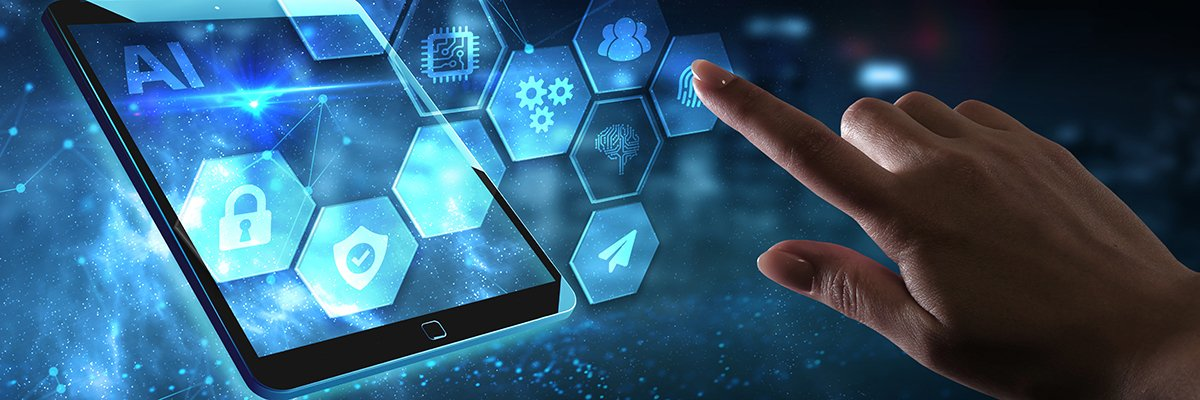test: (235, 98, 425, 177)
